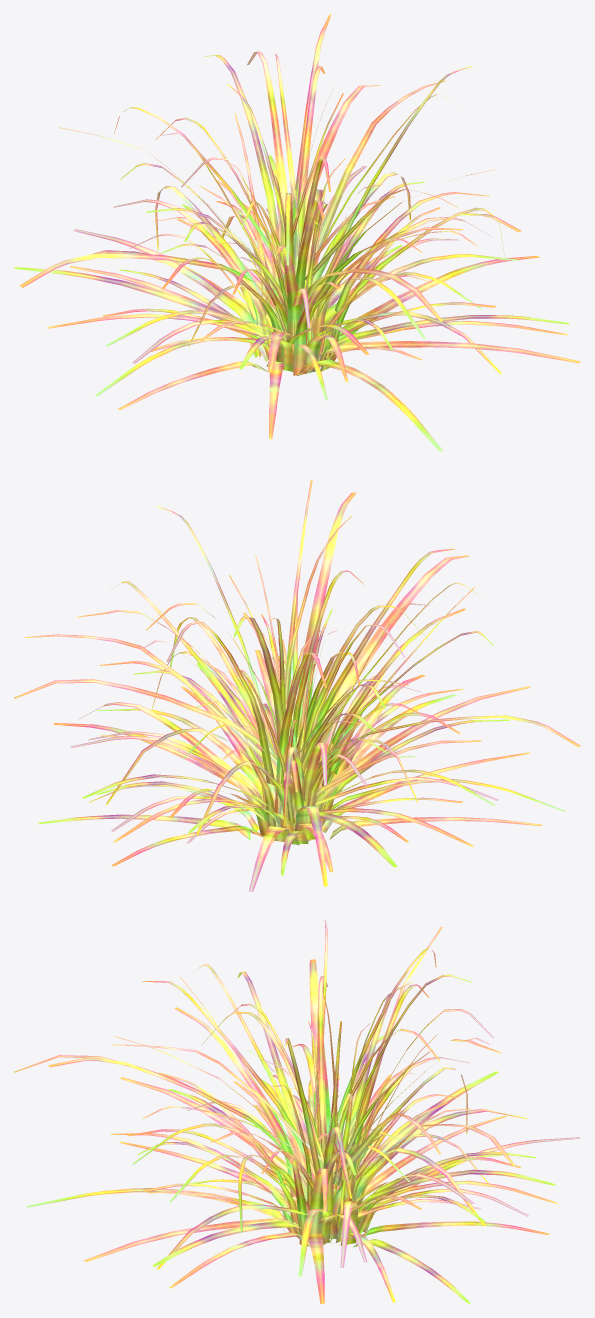
The model's file is pennisetum_large_SM.fbx.
The picture shows the model from 3 angles, top to bottom: view 1: azimuth 30°, elevation 25°; view 2: azimuth 150°, elevation 25°; view 3: azimuth 270°, elevation 25°; orthographic projection. The views are drawn at different scales.
Parts seen in each view (by area): view 1: pennisetum_large_SM_LOD0; view 2: pennisetum_large_SM_LOD0; view 3: pennisetum_large_SM_LOD0.
Boxes of the visible parts, x1,y1,x2,y2 form: pennisetum_large_SM_LOD0: (14, 14, 580, 451); pennisetum_large_SM_LOD0: (14, 480, 580, 891); pennisetum_large_SM_LOD0: (14, 920, 580, 1303).
Size of the model in its own units: 504 by 490 by 253.
Materials: 1 (1 with a texture image).
